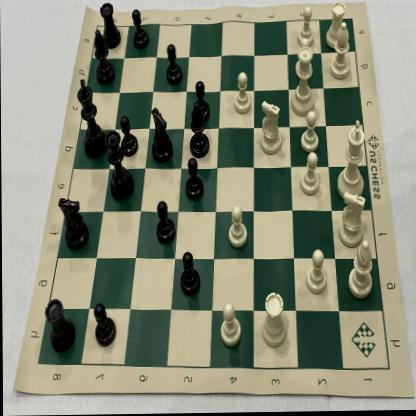black-bishop: (94, 32, 119, 86)
black-king: (76, 73, 107, 162)
black-knight: (57, 194, 91, 248), (152, 101, 177, 161), (188, 109, 214, 163)
black-pawn: (91, 298, 116, 346), (154, 197, 177, 247), (184, 159, 207, 207), (175, 247, 199, 292), (165, 43, 185, 86), (120, 116, 138, 158), (193, 81, 211, 119), (131, 12, 149, 50)
black-queen: (103, 139, 133, 205)
black-rook: (44, 293, 75, 354), (102, 6, 124, 48)
white-bishop: (326, 26, 355, 91), (348, 239, 379, 299)
white-king: (337, 124, 368, 201)
white-knight: (339, 188, 369, 251), (259, 98, 285, 158)
white-pawn: (296, 143, 323, 198), (221, 297, 247, 347), (293, 103, 317, 156), (223, 203, 248, 250), (294, 9, 317, 53), (304, 250, 326, 294), (234, 72, 253, 117), (294, 40, 312, 80)
white-queen: (287, 51, 318, 105)
white-rook: (258, 290, 288, 353), (324, 0, 352, 63)
